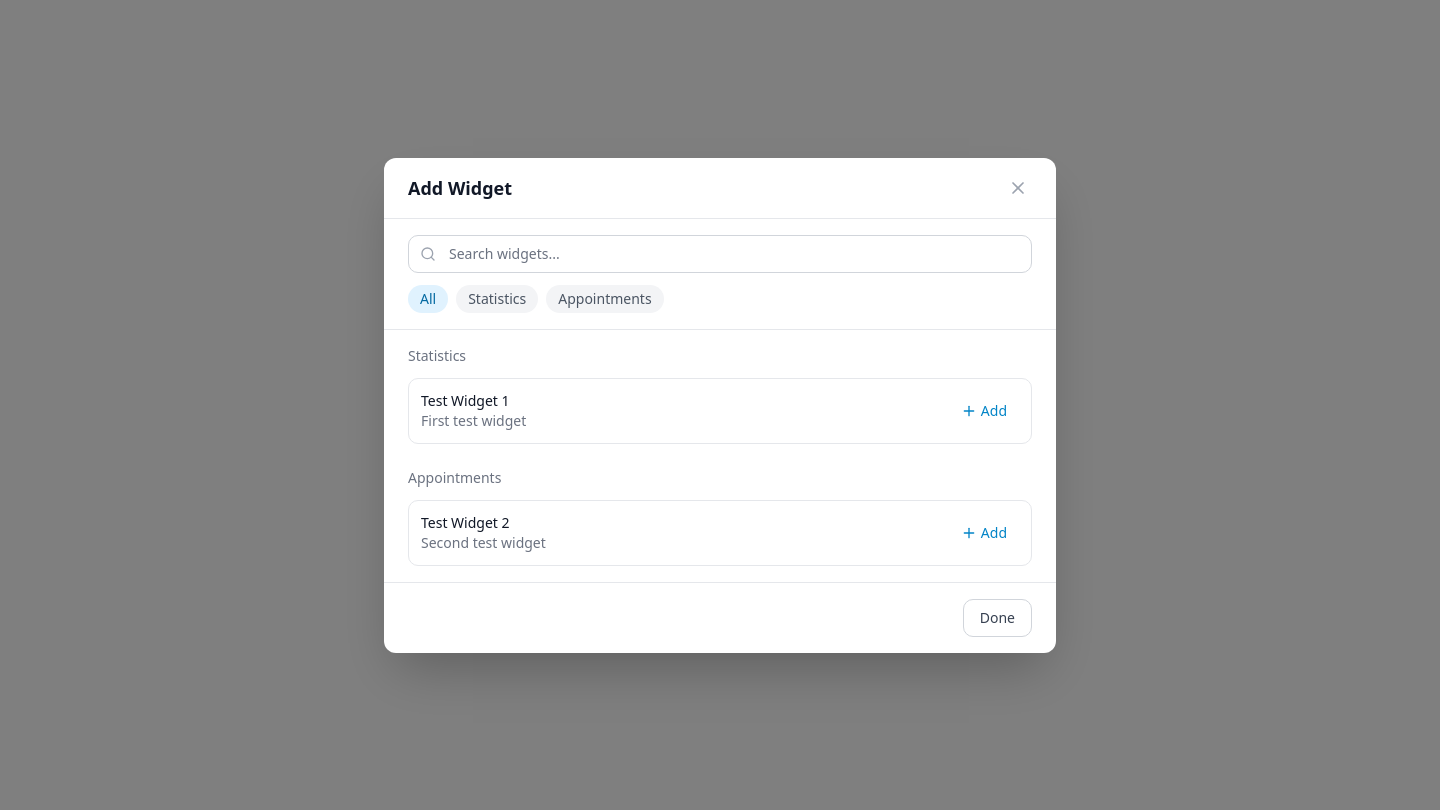
Test: AddWidgetDialog › filters widgets by search query
Type "First" into the field with placeholder "Search widgets..." at (720, 254), box [408,234,1032,272]
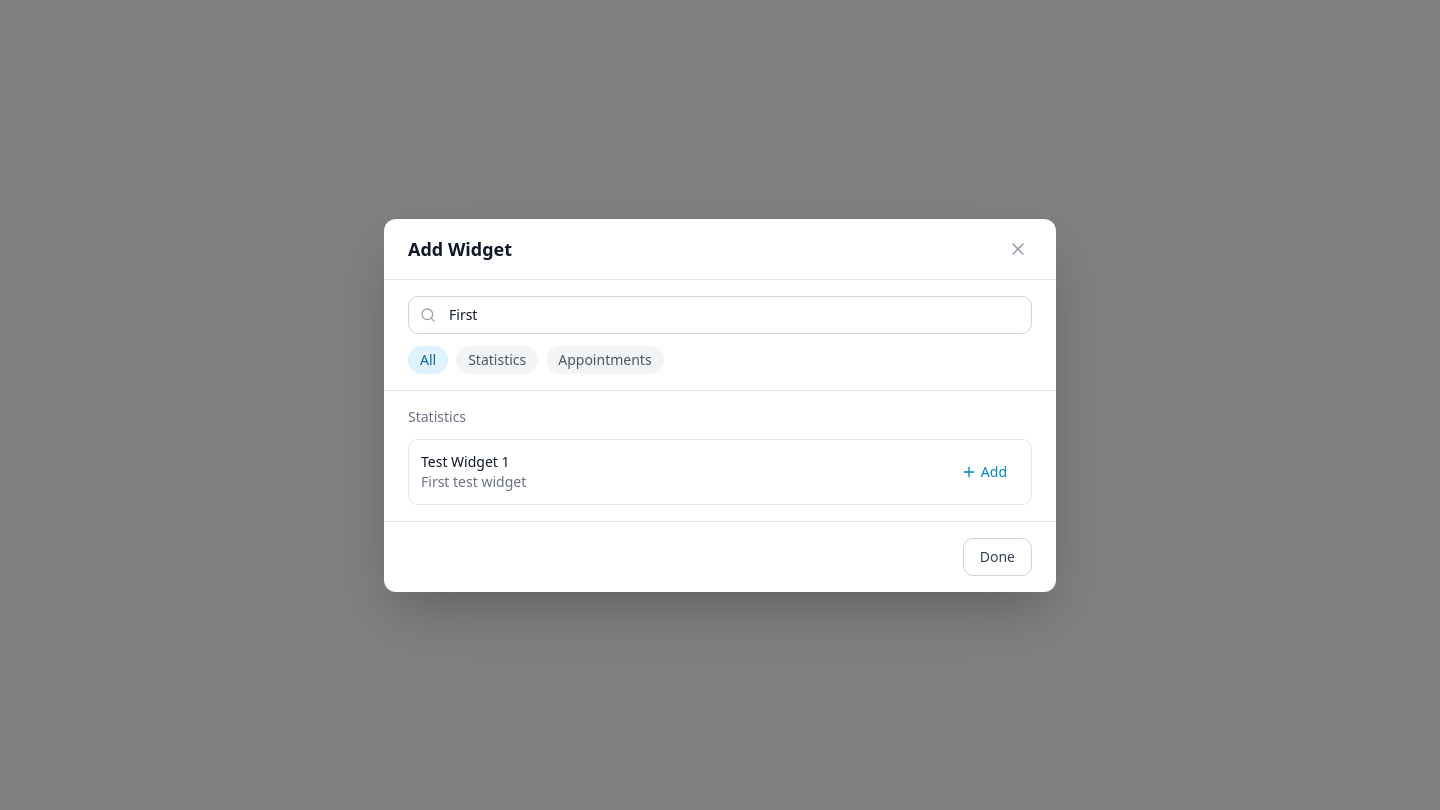
Expected: the heading "Test Widget 1" is shown, [421,452,510,470]
Now the heading "Test Widget 2" is gone
